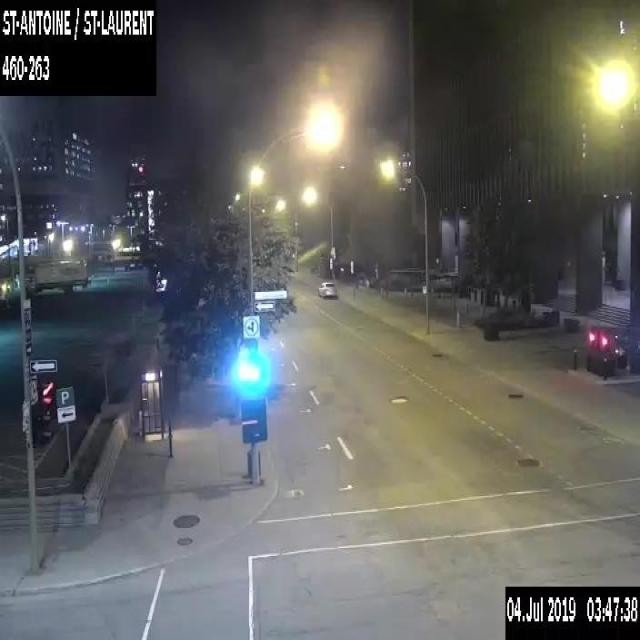vehicle: (25, 256, 87, 296), (318, 280, 336, 296), (124, 260, 142, 271)
